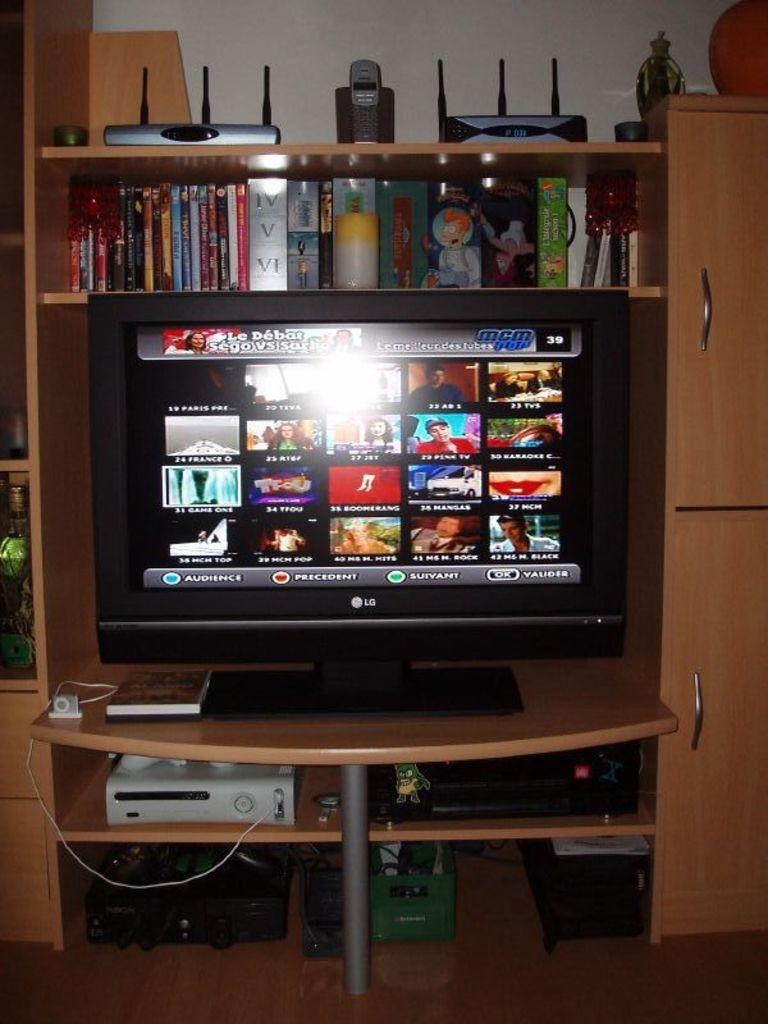Book: (104, 668, 212, 721)
Computer-monitor: (85, 286, 631, 718)
